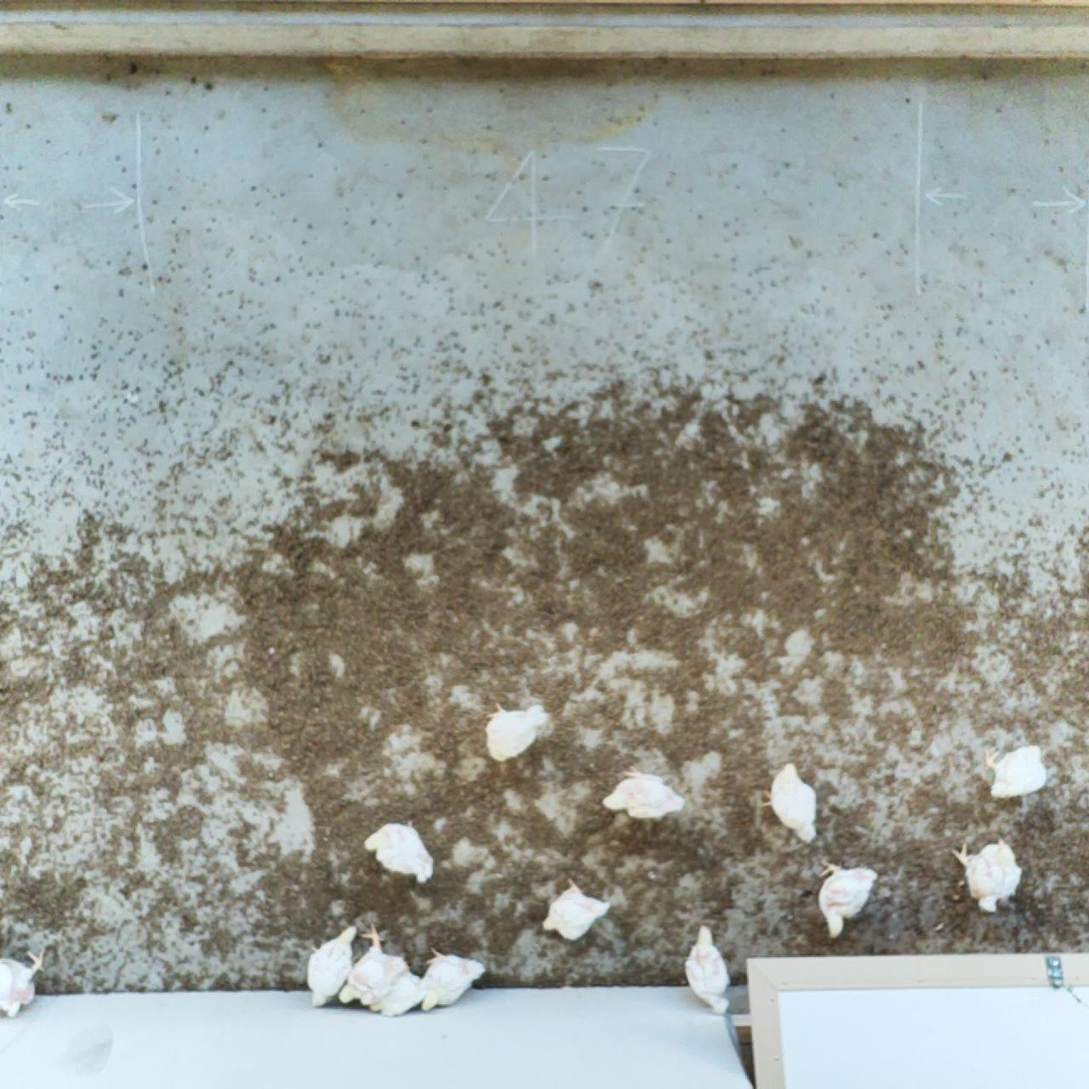chicken: (951, 834, 1028, 915), (338, 922, 408, 1010), (598, 765, 689, 825), (361, 811, 436, 883), (816, 856, 881, 938), (413, 947, 489, 1017), (760, 760, 821, 847), (537, 874, 612, 943), (681, 922, 736, 1016), (480, 700, 552, 764), (305, 924, 359, 1009), (984, 743, 1052, 800), (0, 944, 47, 1020), (365, 968, 427, 1021)
